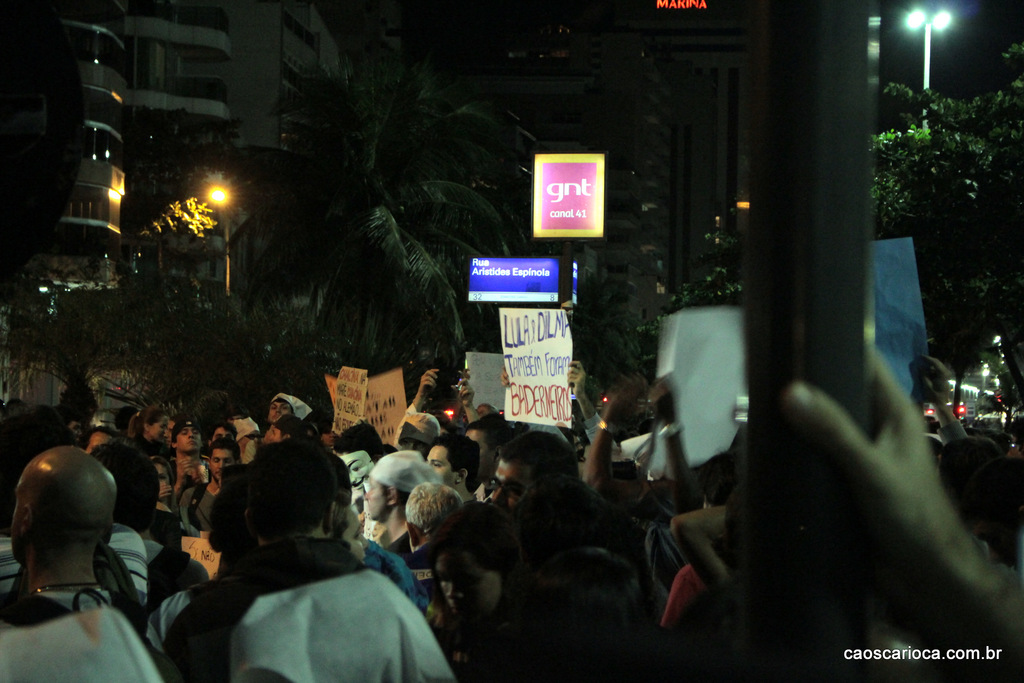Human_hand: (774, 364, 986, 575), (95, 539, 140, 627), (911, 352, 953, 406), (608, 372, 647, 418), (651, 373, 676, 427), (564, 358, 588, 399), (456, 369, 477, 410), (417, 364, 440, 394), (372, 523, 390, 549), (172, 459, 193, 481), (200, 452, 211, 478), (321, 430, 333, 452), (500, 366, 511, 388), (159, 483, 175, 498), (356, 508, 366, 531)
